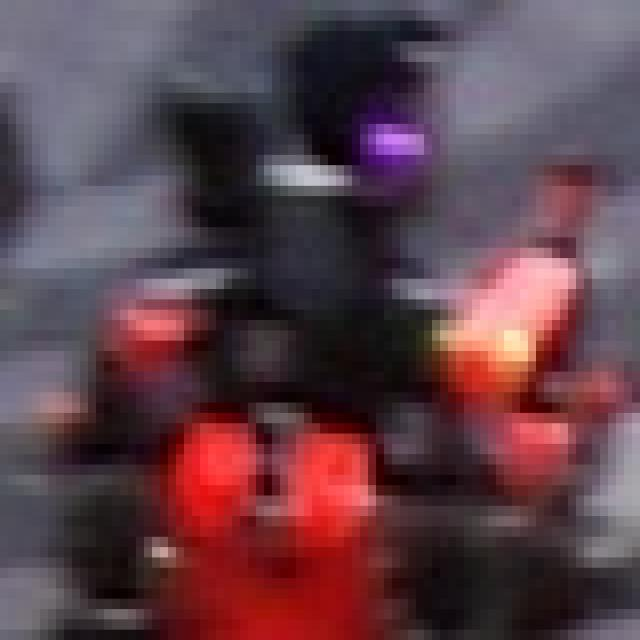R3: (160, 392, 368, 558)
